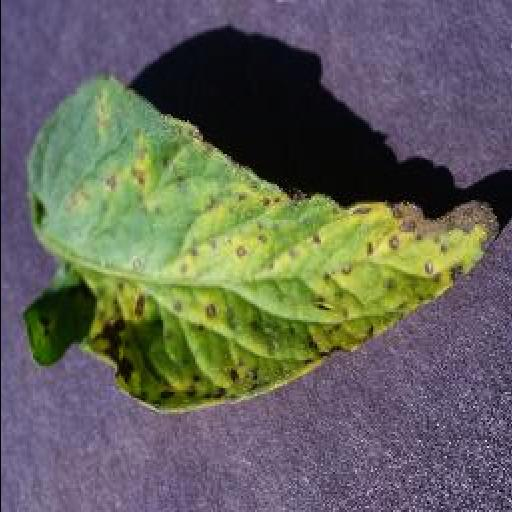disease_tomato: (26, 74, 498, 412)
